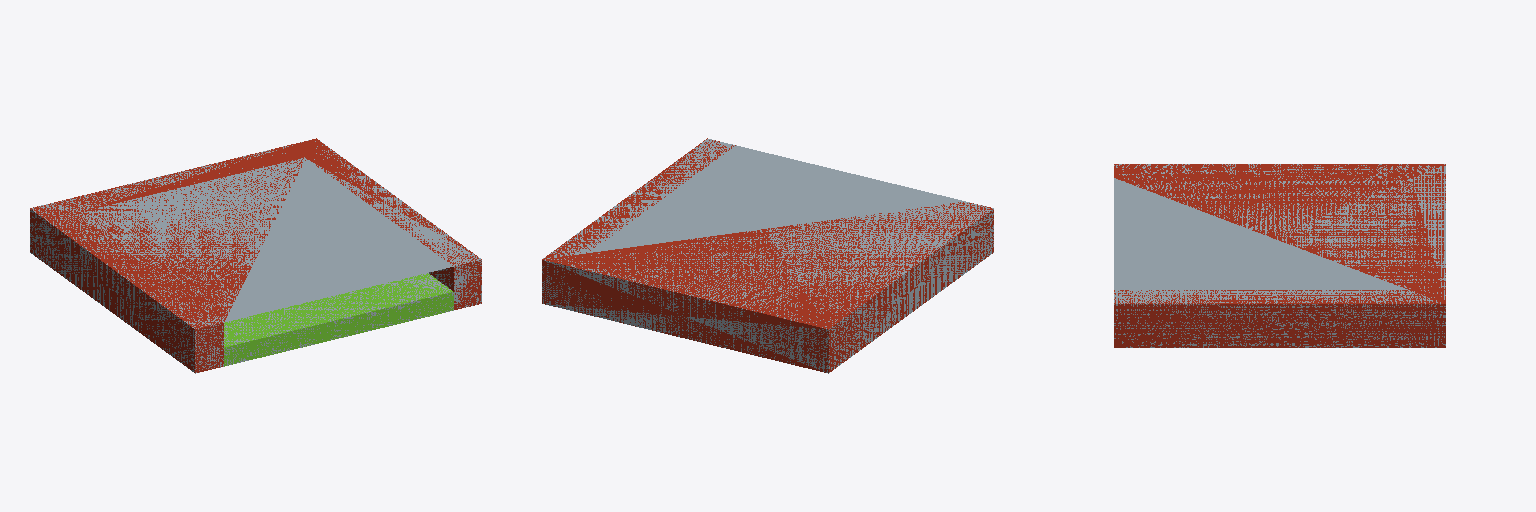
Rendered from Hole_square_01.obj.
3 views of the same model, side by side, from view 1: azimuth 30°, elevation 25°; view 2: azimuth 150°, elevation 25°; view 3: azimuth 270°, elevation 25° (orthographic).
Parts seen in each view (by area): view 1: Mesh1 Hole_square Model; view 2: Mesh1 Hole_square Model; view 3: Mesh1 Hole_square Model.
Boxes of the visible parts, x1=… form: Mesh1 Hole_square Model: x1=30, y1=138, x2=481, y2=373; Mesh1 Hole_square Model: x1=542, y1=138, x2=993, y2=373; Mesh1 Hole_square Model: x1=1114, y1=164, x2=1445, y2=347.
Bounding box in the file's own units: 3 × 0.44 × 3.